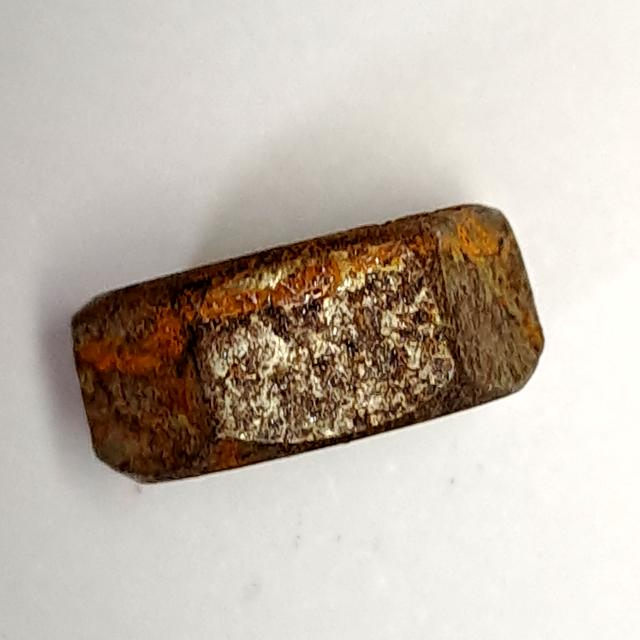Side_Rust: (57, 184, 556, 507)
